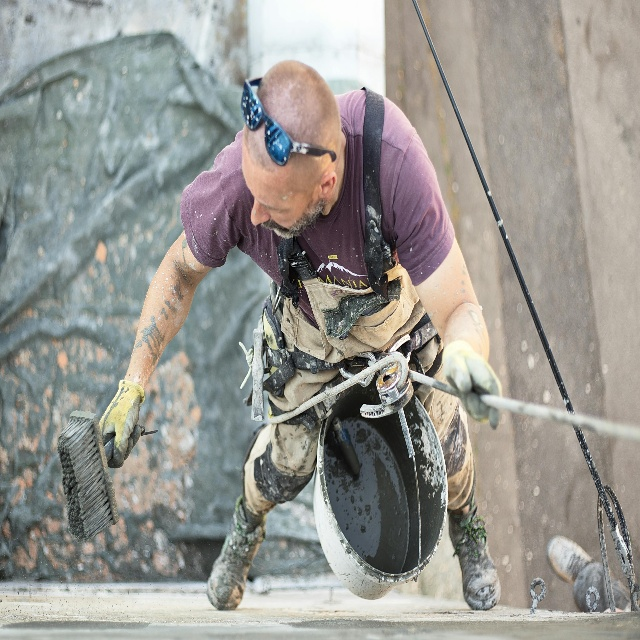Gafas: (241, 82, 335, 161)
Guantes: (440, 339, 499, 426), (94, 381, 148, 467)
